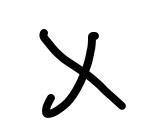mult: (38, 27, 126, 114)
